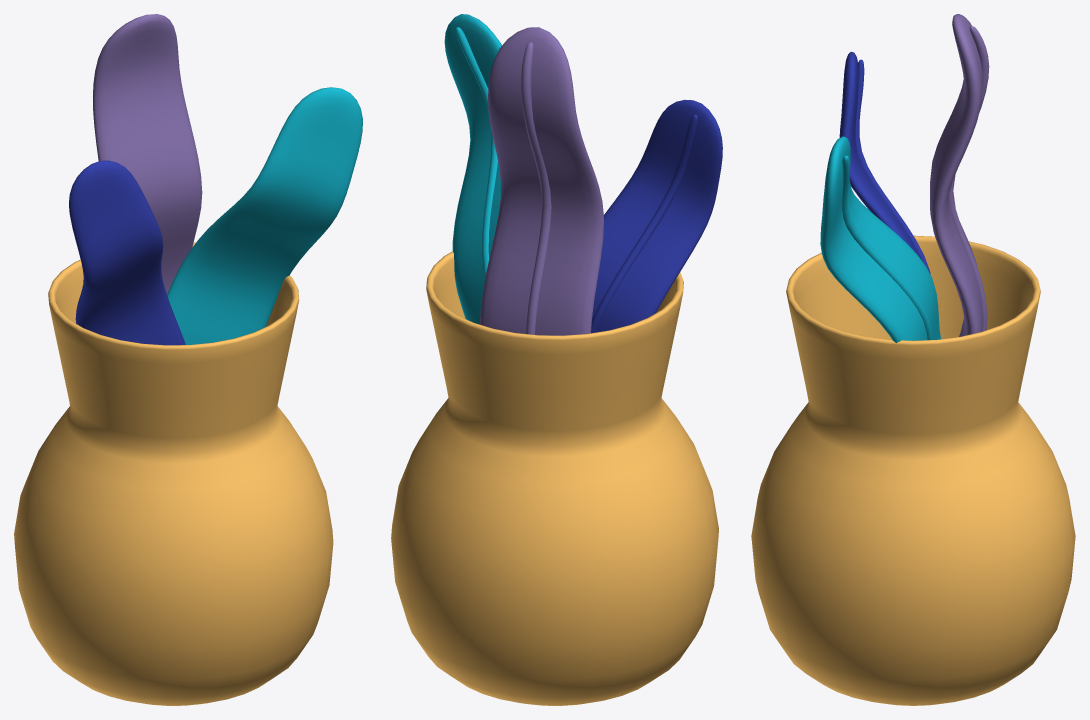
File: Plant.fbx
3 renders of one model, left to right at view 1: azimuth 30°, elevation 25°; view 2: azimuth 150°, elevation 25°; view 3: azimuth 270°, elevation 25°, orthographic. The views are drawn at different scales.
Parts seen in each view (by area): view 1: Plant; view 2: Plant; view 3: Plant.
Part boxes in pixels (x1,y1,x2,y2): Plant: (14,14,362,705); Plant: (391,14,722,705); Plant: (751,14,1075,705).
Size of the model in its own units: 42.48 by 92.4 by 41.1.
